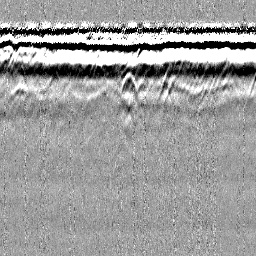cavity: (120, 71, 139, 97)
